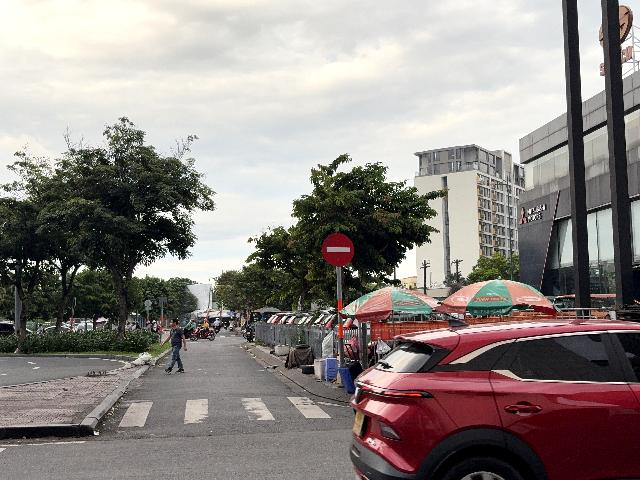cam-di-nguoc-chieu: (322, 233, 355, 266)
